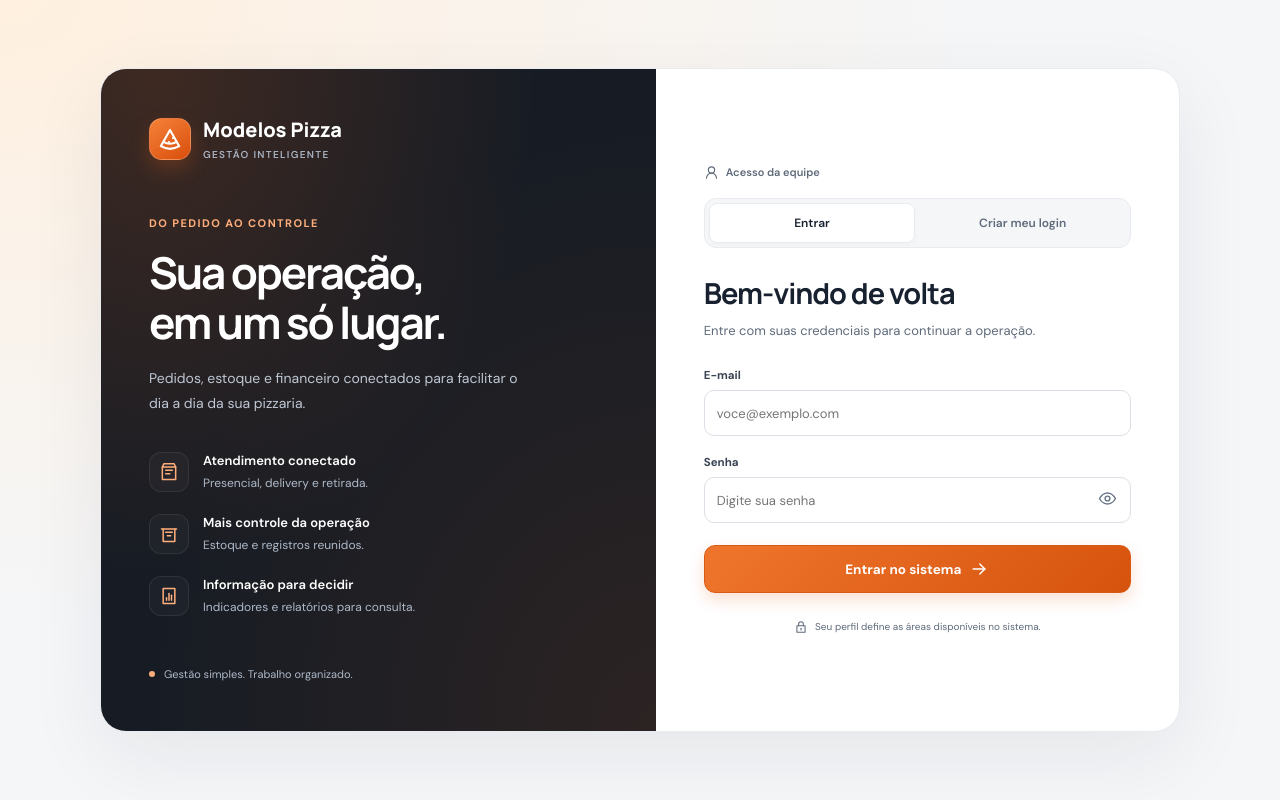
campos inválidos têm mensagem e foco antes de qualquer requisição
The width and height of the screenshot is (1280, 800).
Submit the form "Entrar no sistema", box [704,368,1131,593]
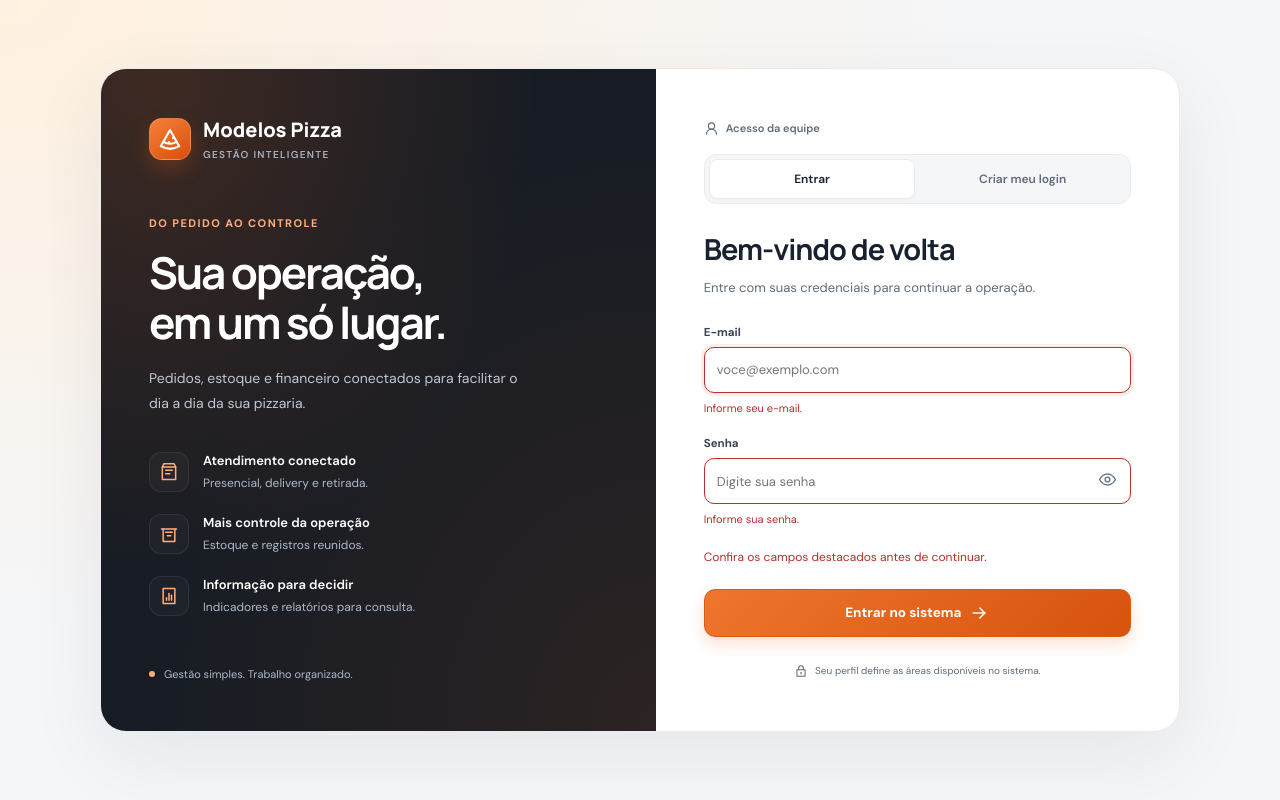
Now the text "Informe seu e-mail." is shown, box [704,401,802,415]
Now the text "Informe sua senha." is shown, box [704,512,799,526]
Type "sem-arroba" into the field labelled "E-mail" at [917, 370], box [704,347,1131,393]
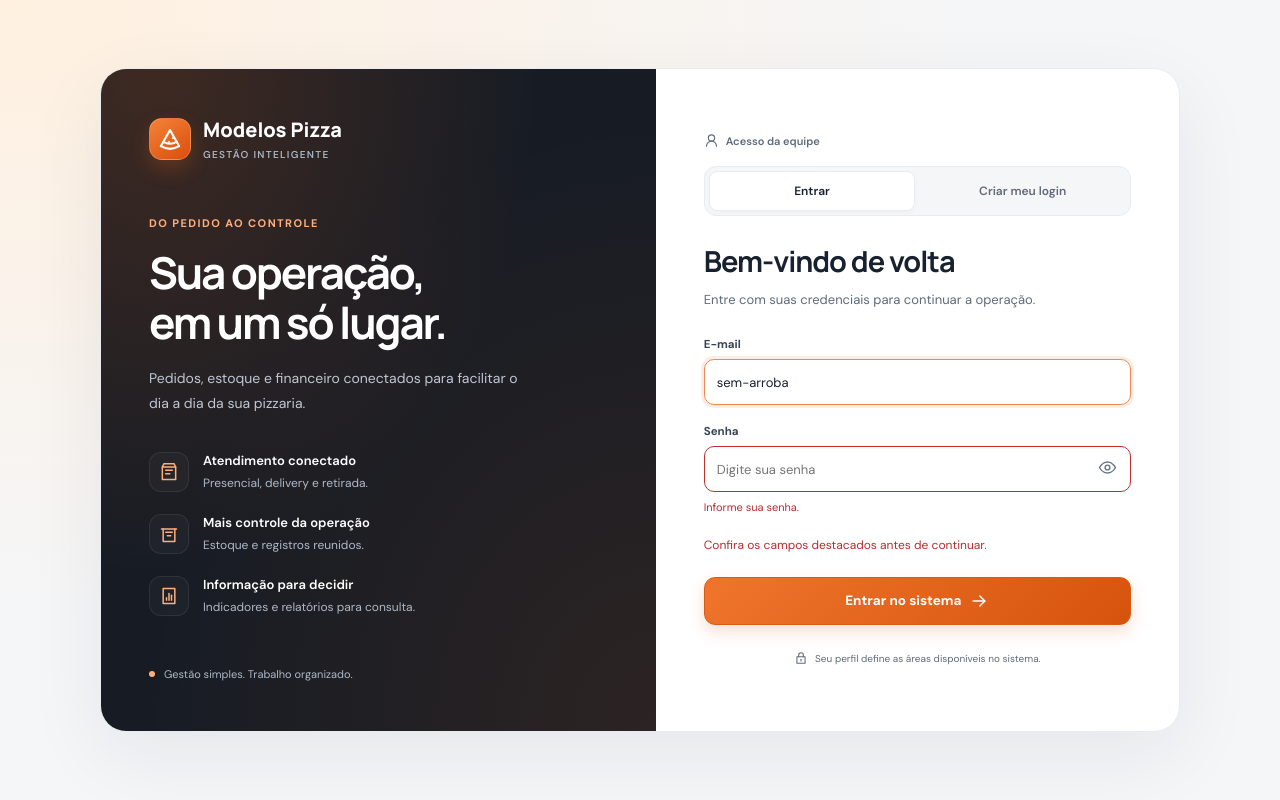
Submit the form named "Entrar no sistema", box [704,337,1131,625]
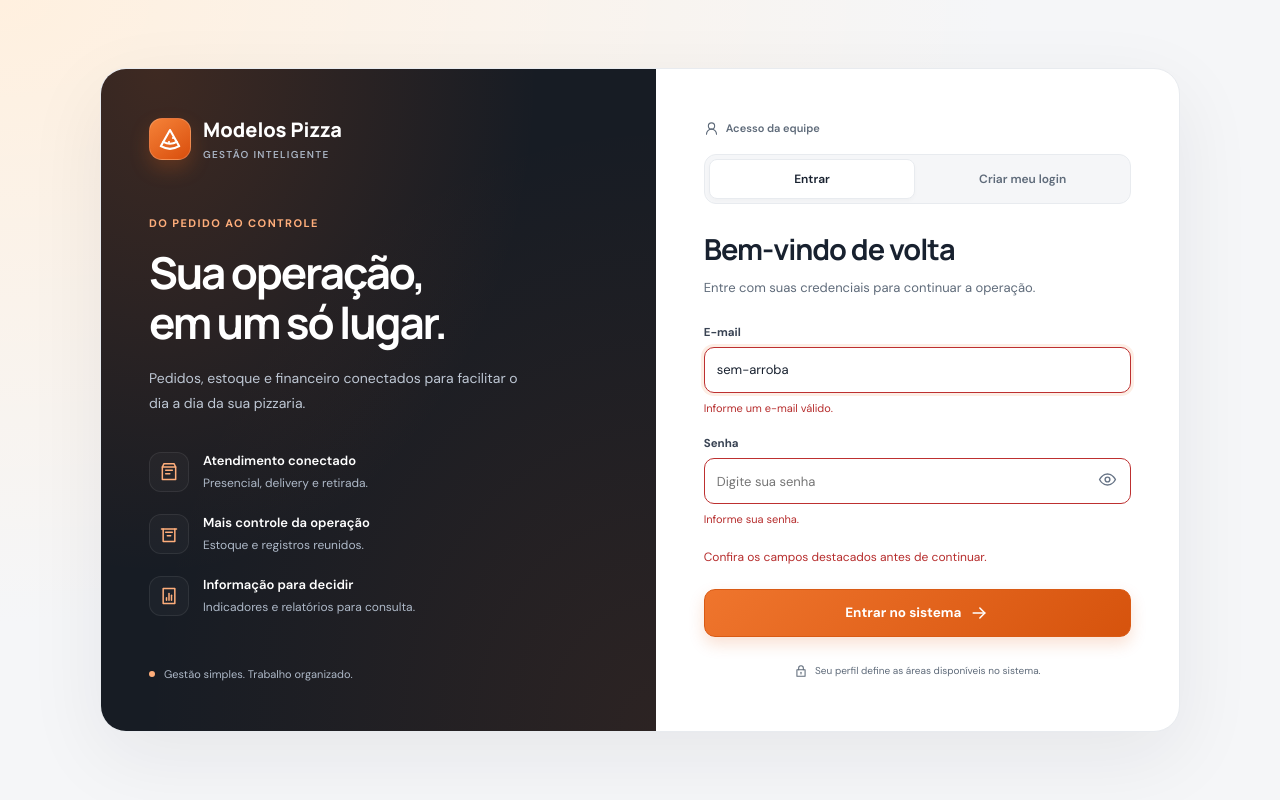
Now the text "Informe um e-mail válido." is shown, box [704,401,833,415]
